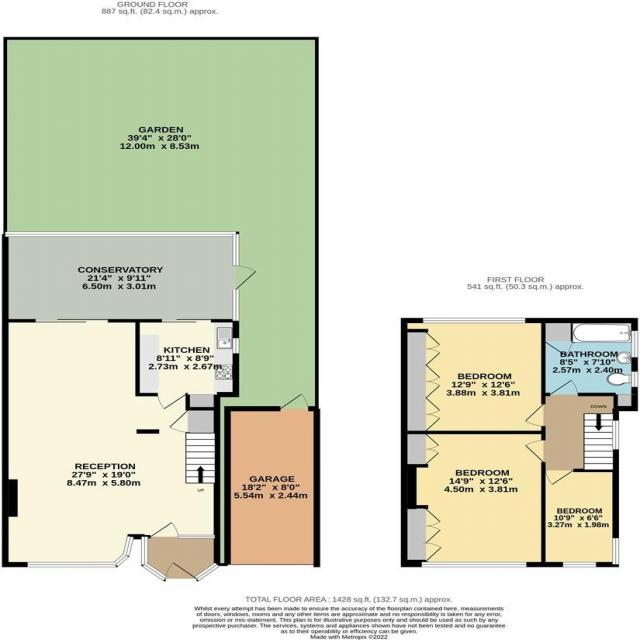DOOR: (163, 561, 200, 582), (541, 467, 576, 488), (231, 265, 258, 291), (521, 439, 547, 464), (523, 402, 547, 429), (548, 378, 582, 397), (156, 392, 189, 411), (279, 392, 309, 412), (149, 521, 179, 540), (168, 408, 189, 434)
ROOM: (1, 318, 221, 568), (399, 430, 546, 568), (133, 318, 241, 412), (539, 468, 620, 567)
WINDOW: (3, 230, 240, 238), (420, 560, 530, 569), (419, 316, 527, 325), (27, 561, 118, 568), (193, 561, 221, 582), (141, 562, 168, 582), (231, 289, 241, 322), (629, 329, 640, 359), (121, 535, 135, 558), (611, 536, 621, 568), (610, 420, 620, 451), (232, 233, 241, 267), (561, 560, 598, 568), (113, 552, 131, 568), (140, 536, 149, 567), (178, 533, 215, 539), (630, 370, 639, 389), (231, 338, 241, 355)
